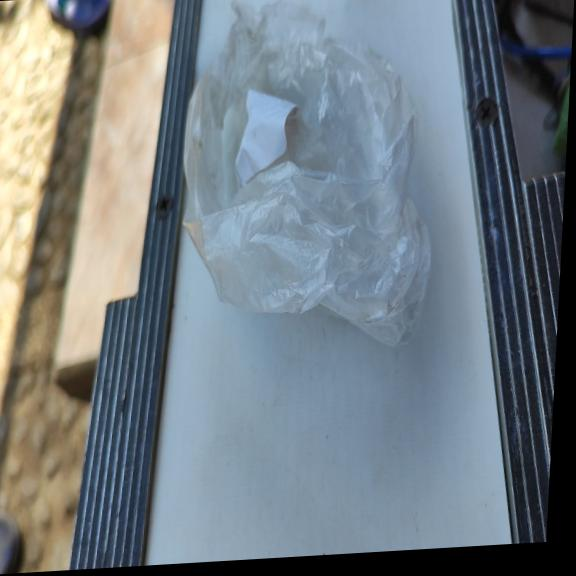Plastik: (171, 0, 447, 367)
